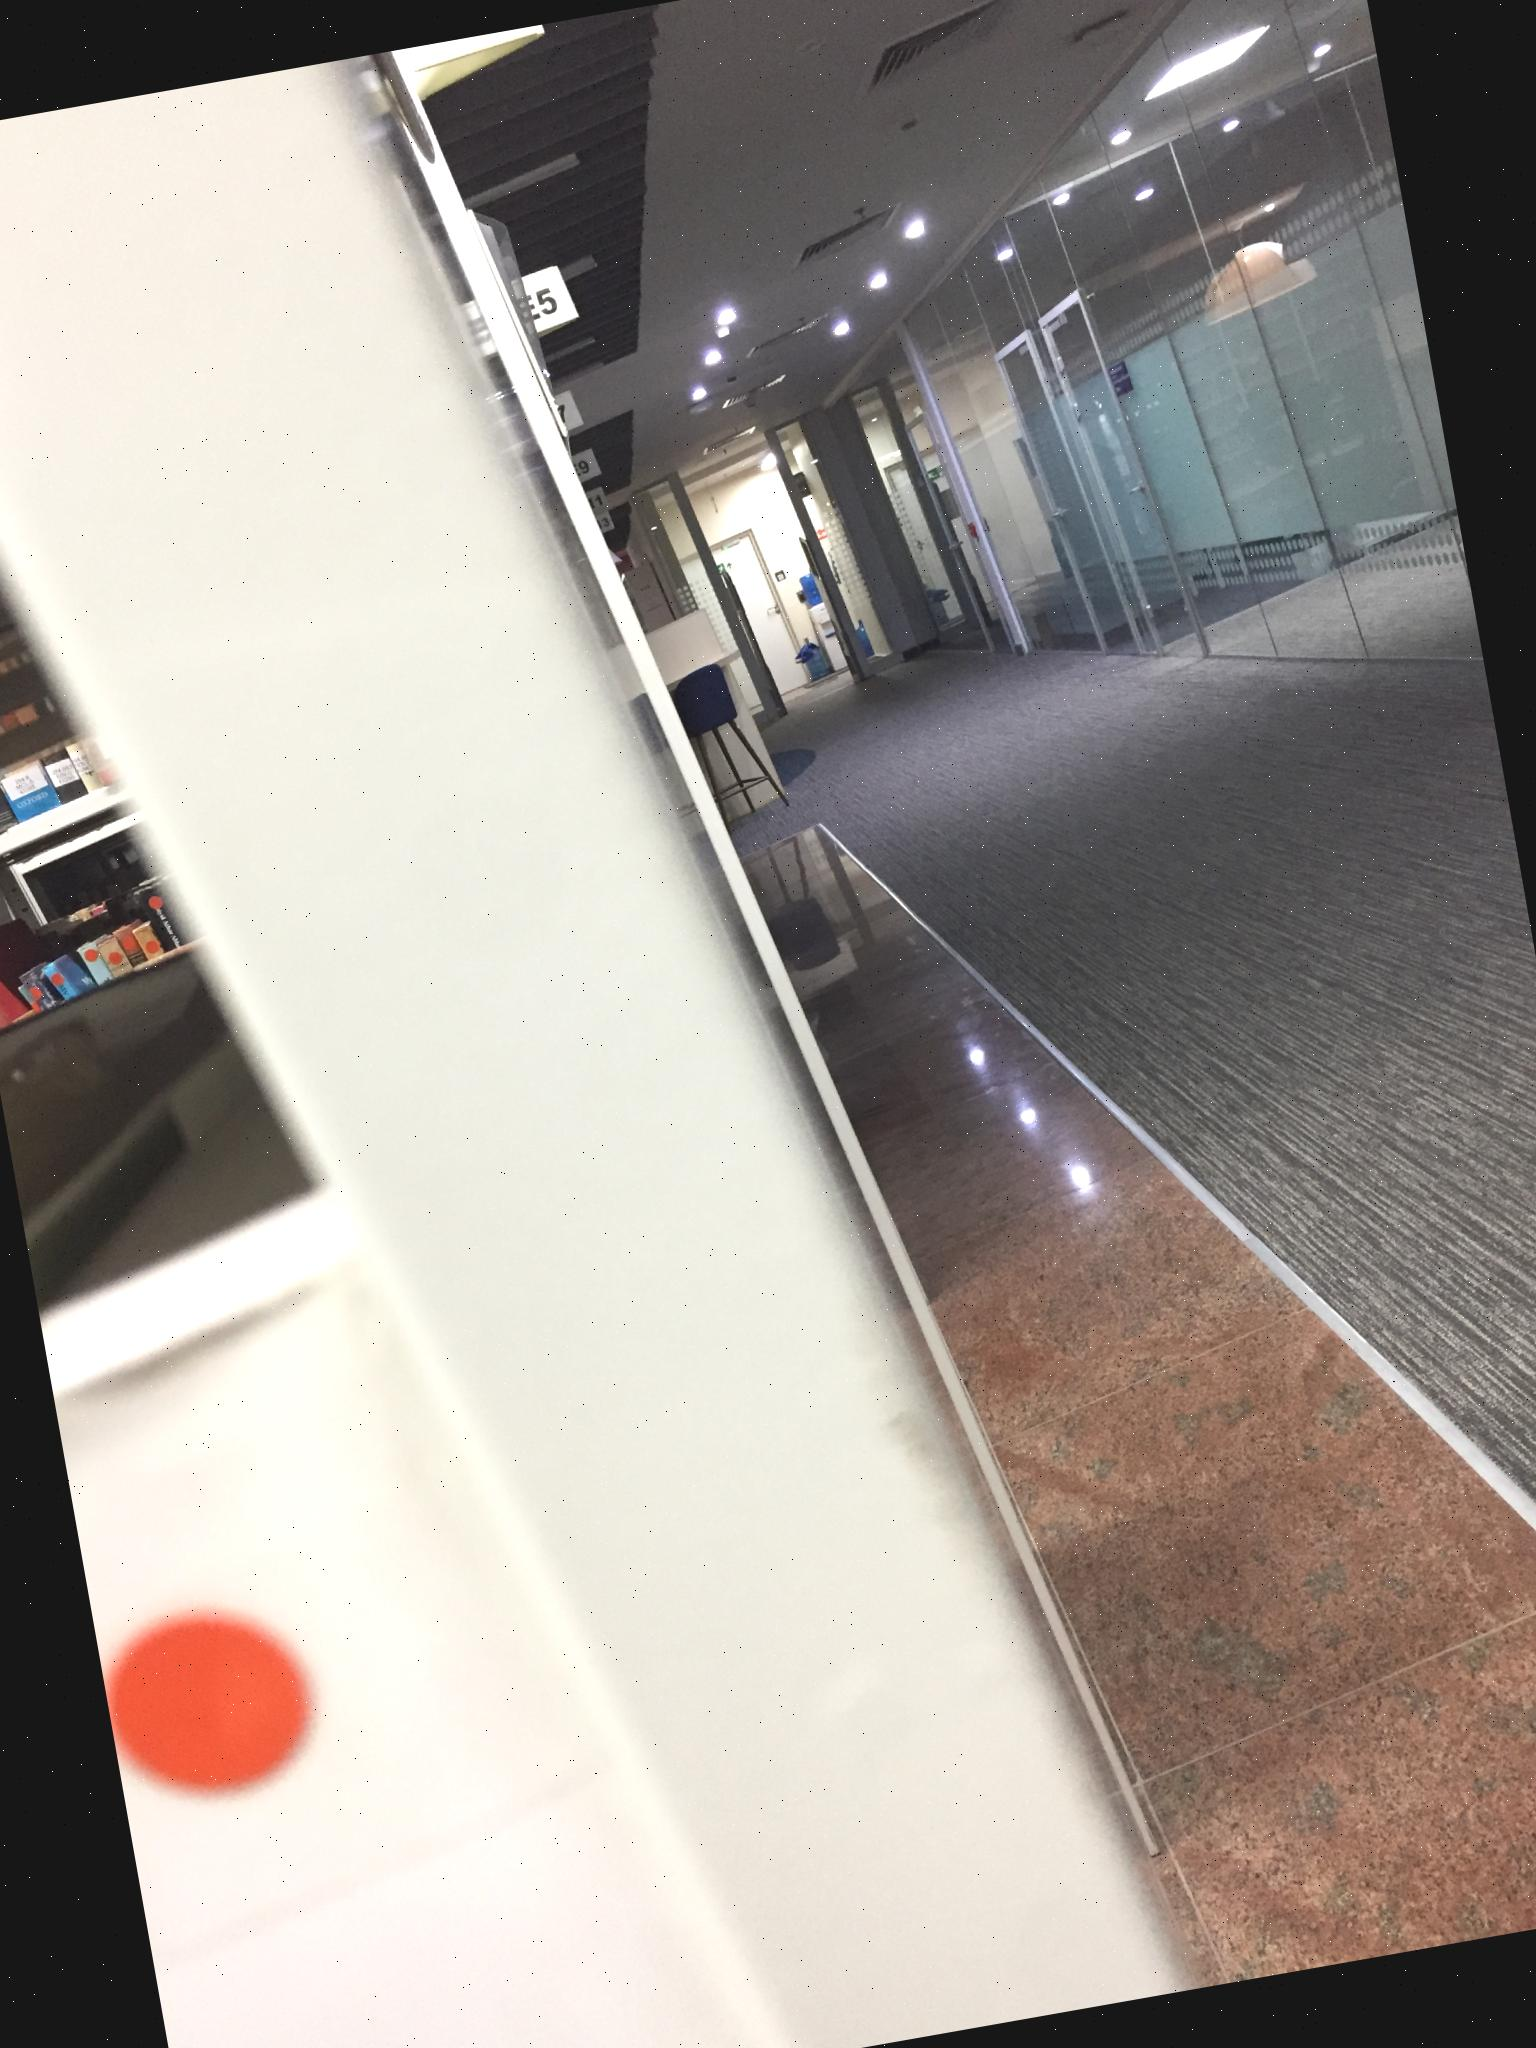chair: (665, 653, 791, 827)
